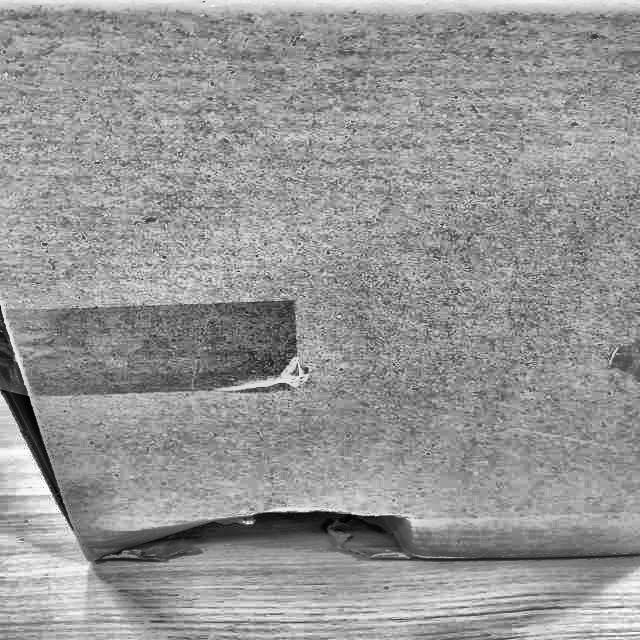box: (0, 0, 639, 577)
hole: (104, 503, 432, 563)
